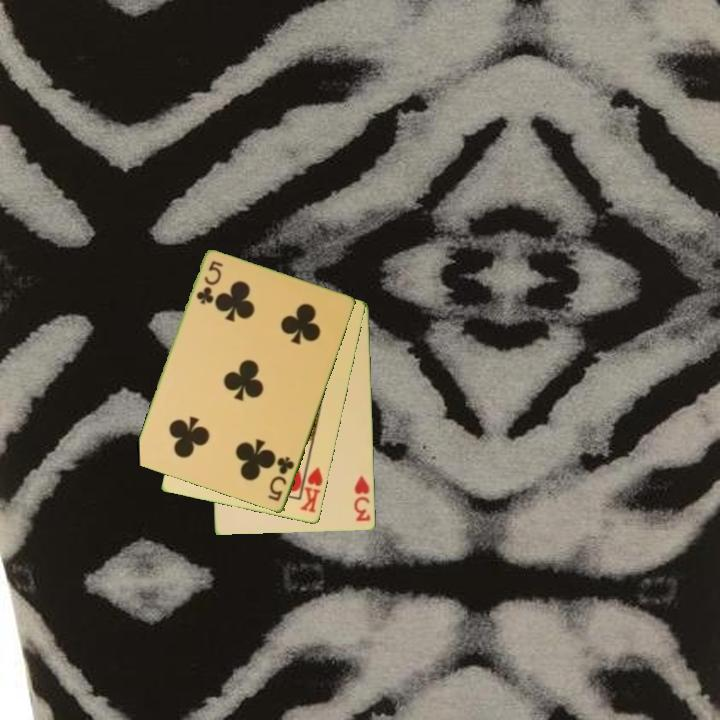3h: (350, 472, 374, 525)
5c: (264, 453, 298, 505), (193, 257, 225, 307)
Kh: (297, 459, 326, 516)
